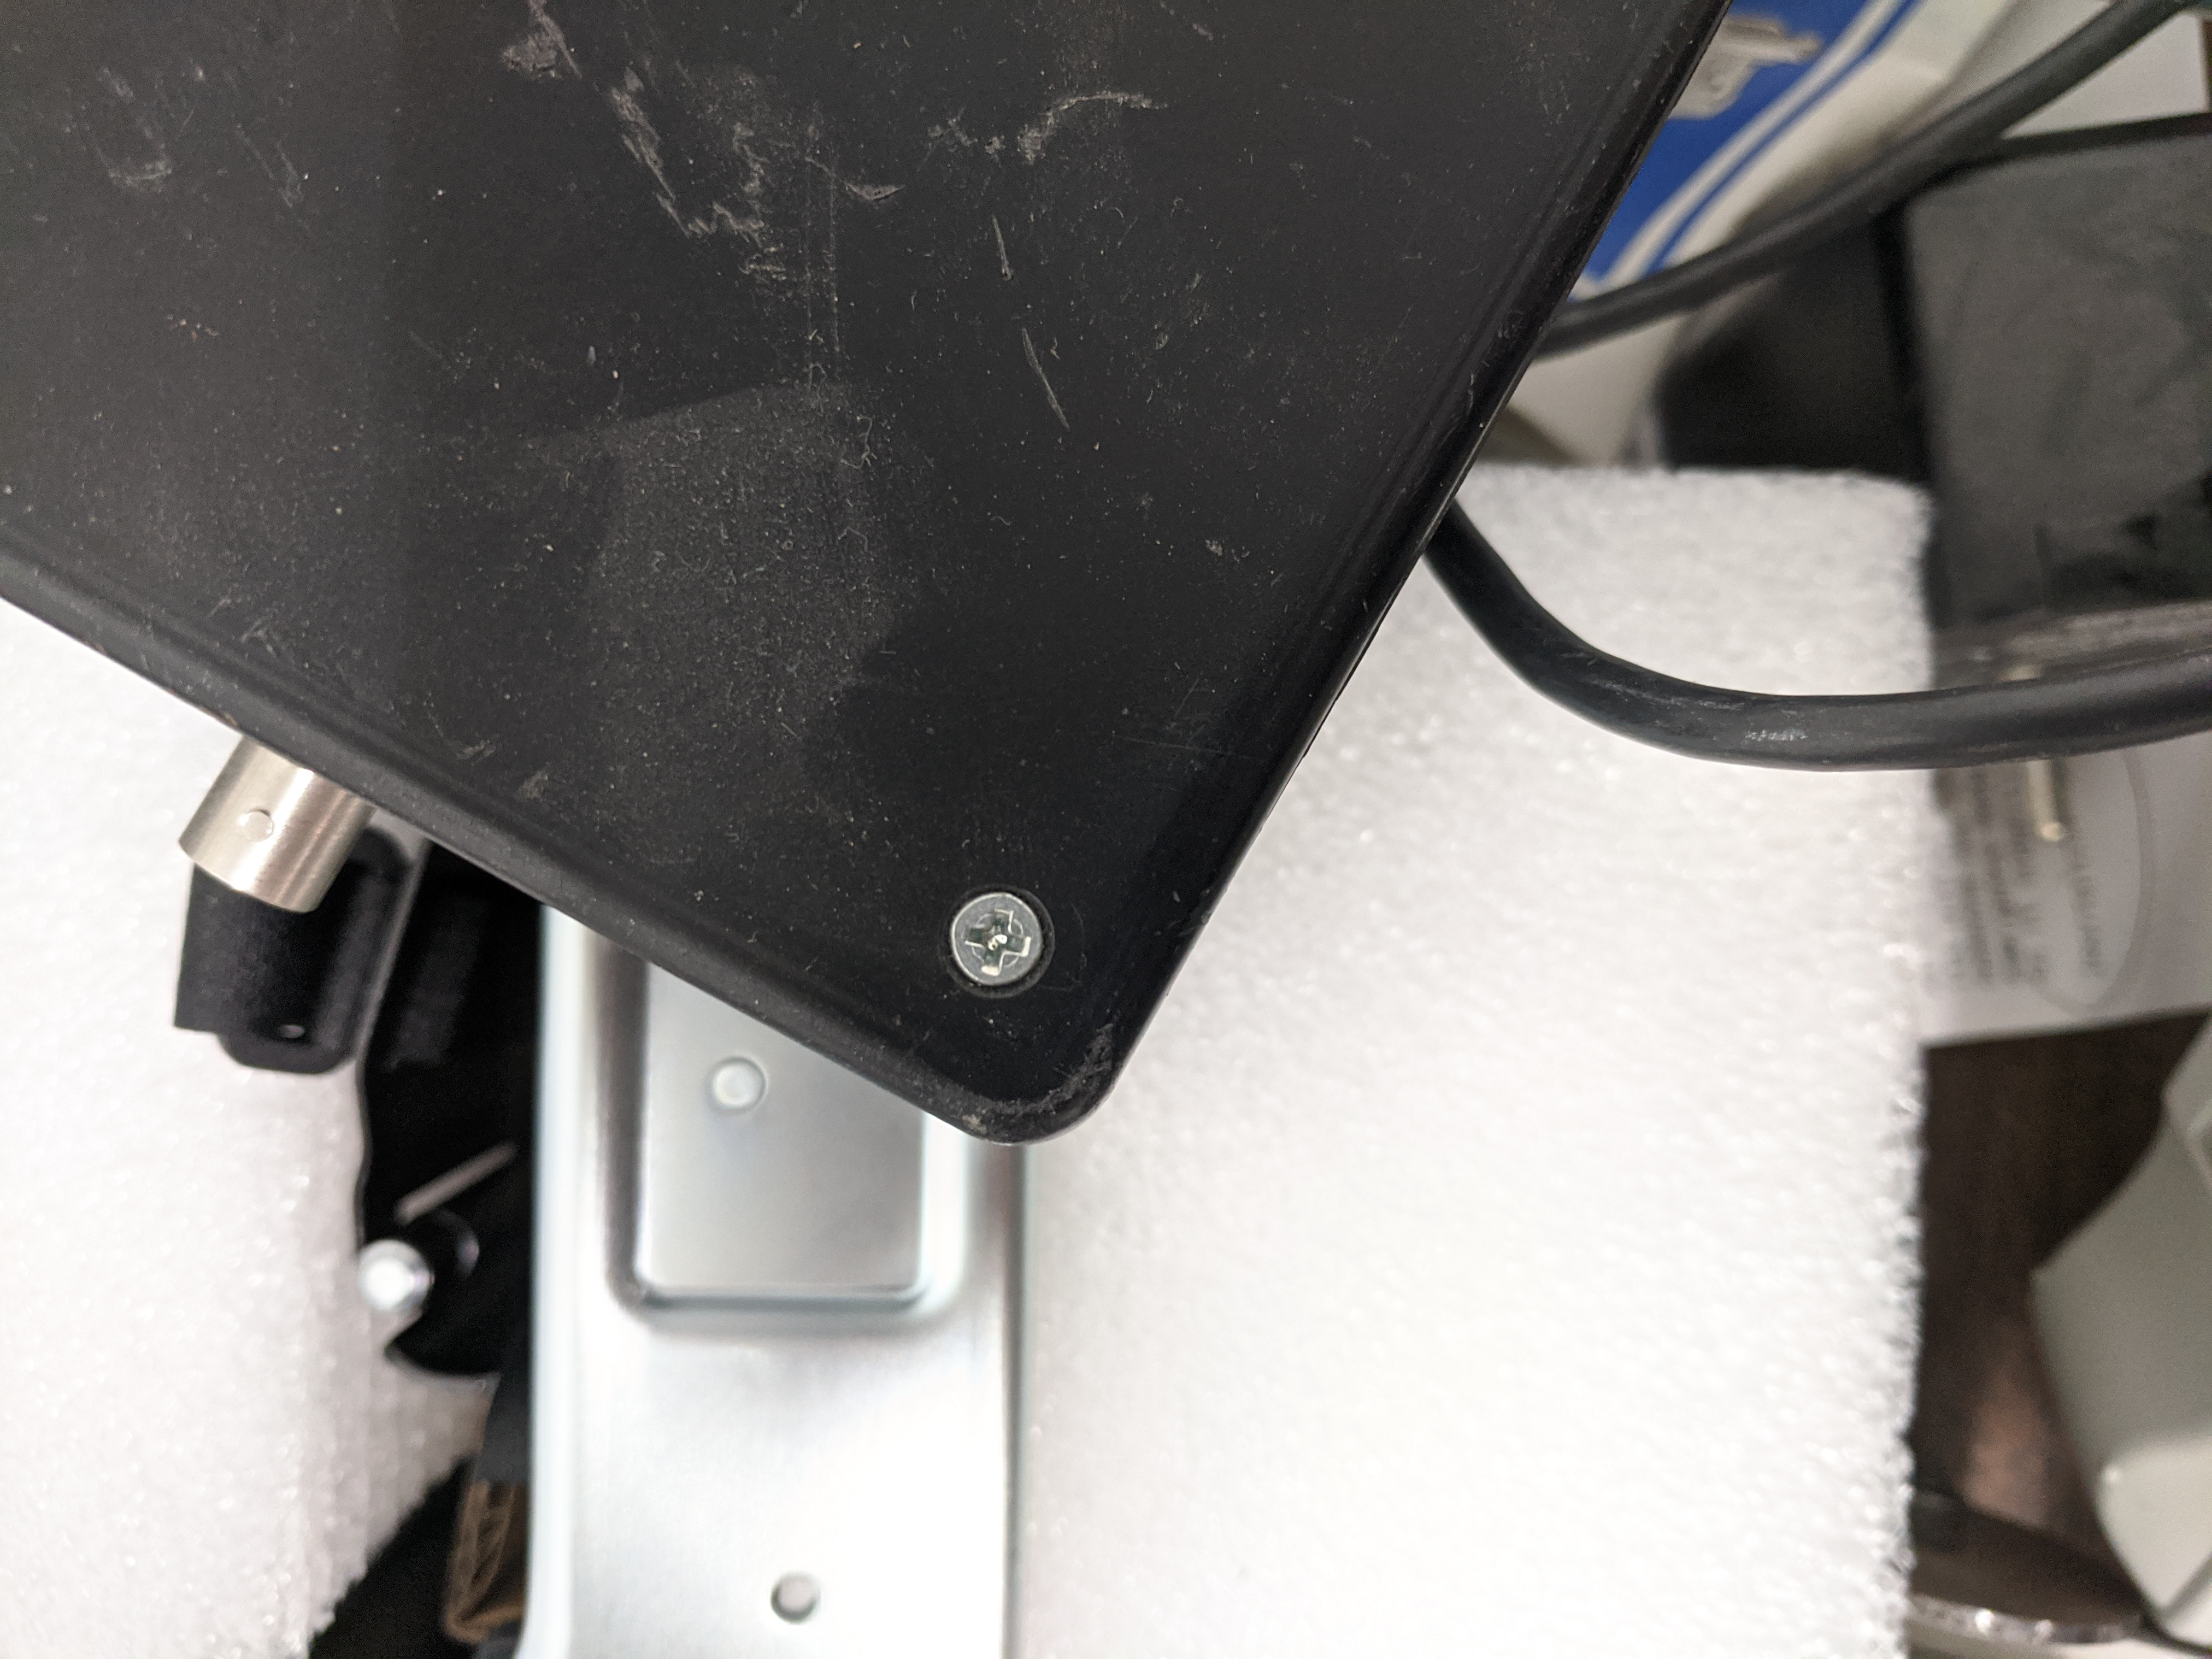cross_recessed_screw: (944, 887, 1049, 986)
